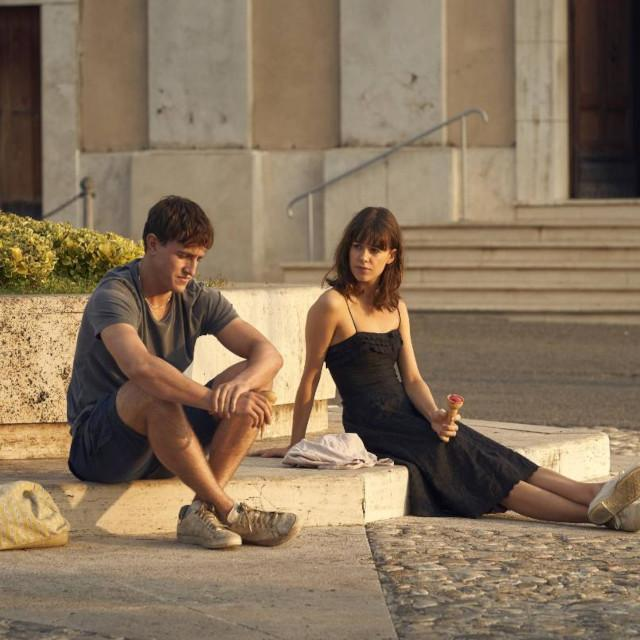kobieta: (315, 202, 637, 534)
mezczyzna: (71, 199, 269, 551)
